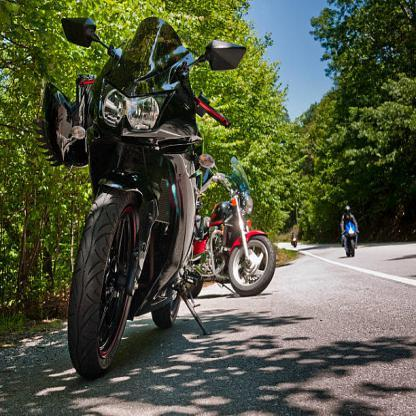Motorcycle: (38, 12, 205, 379), (196, 151, 281, 300), (337, 211, 360, 269)
